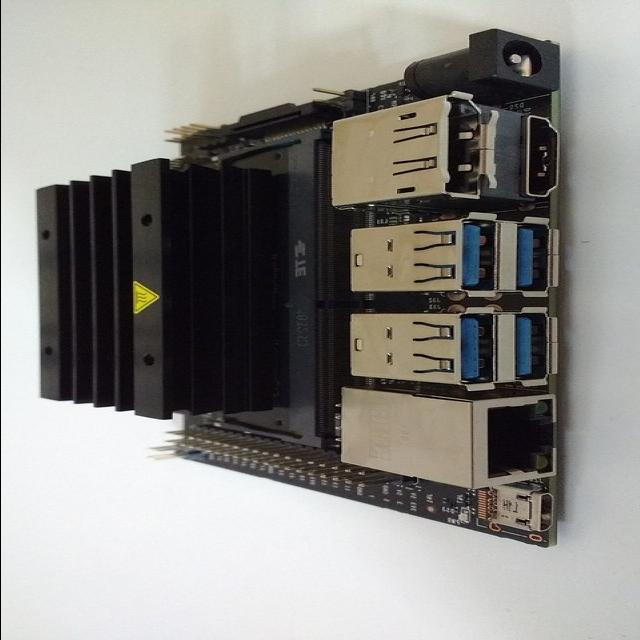Jetson Nano: (36, 29, 559, 549)
